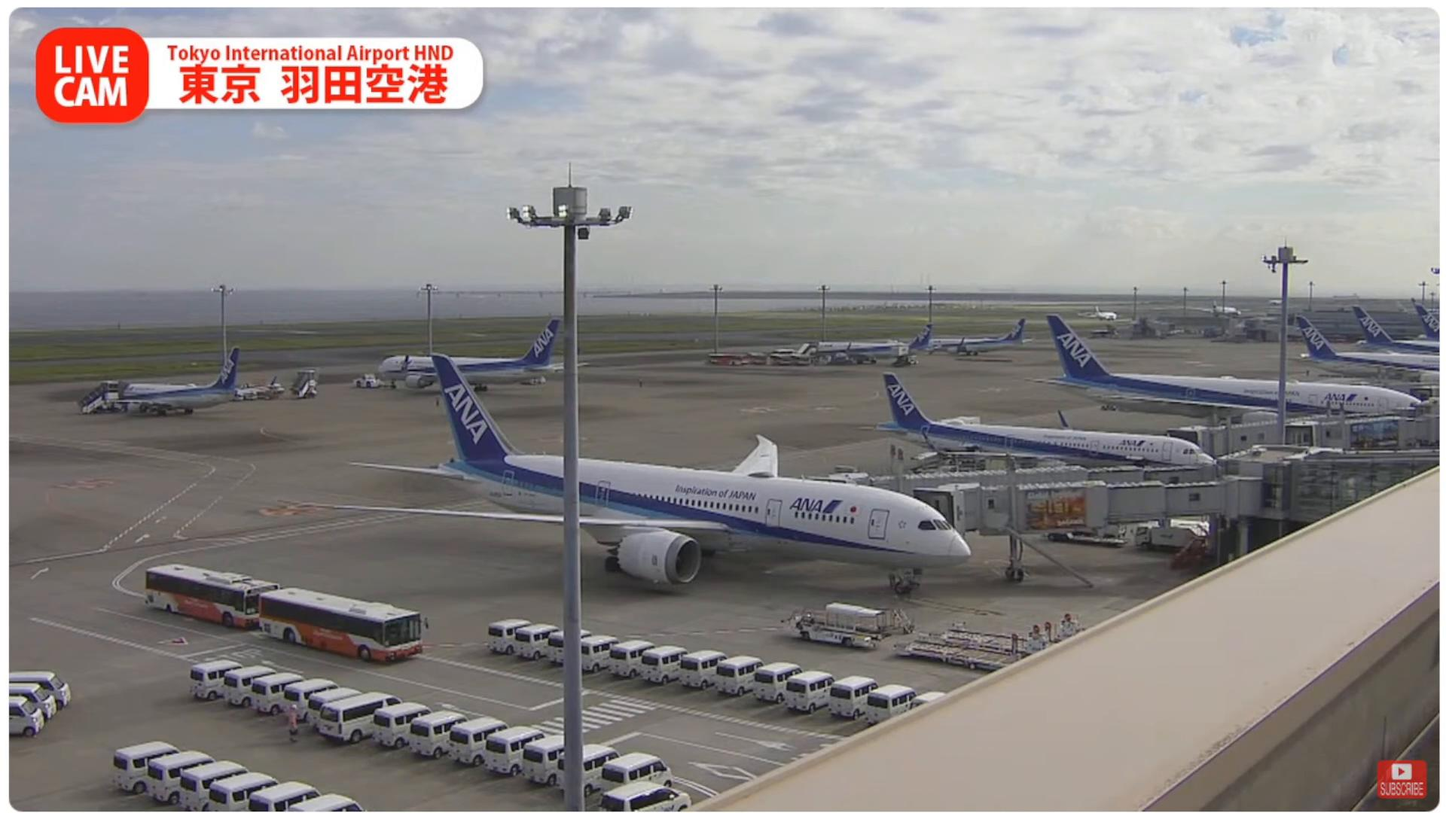Aerobridge: (913, 476, 1264, 540), (843, 457, 1217, 497)
Airplane: (330, 354, 973, 599)
JCPL: (895, 622, 1042, 671), (934, 610, 1089, 654)
Skyloader: (788, 603, 887, 651)
Window: (1290, 459, 1440, 524)
